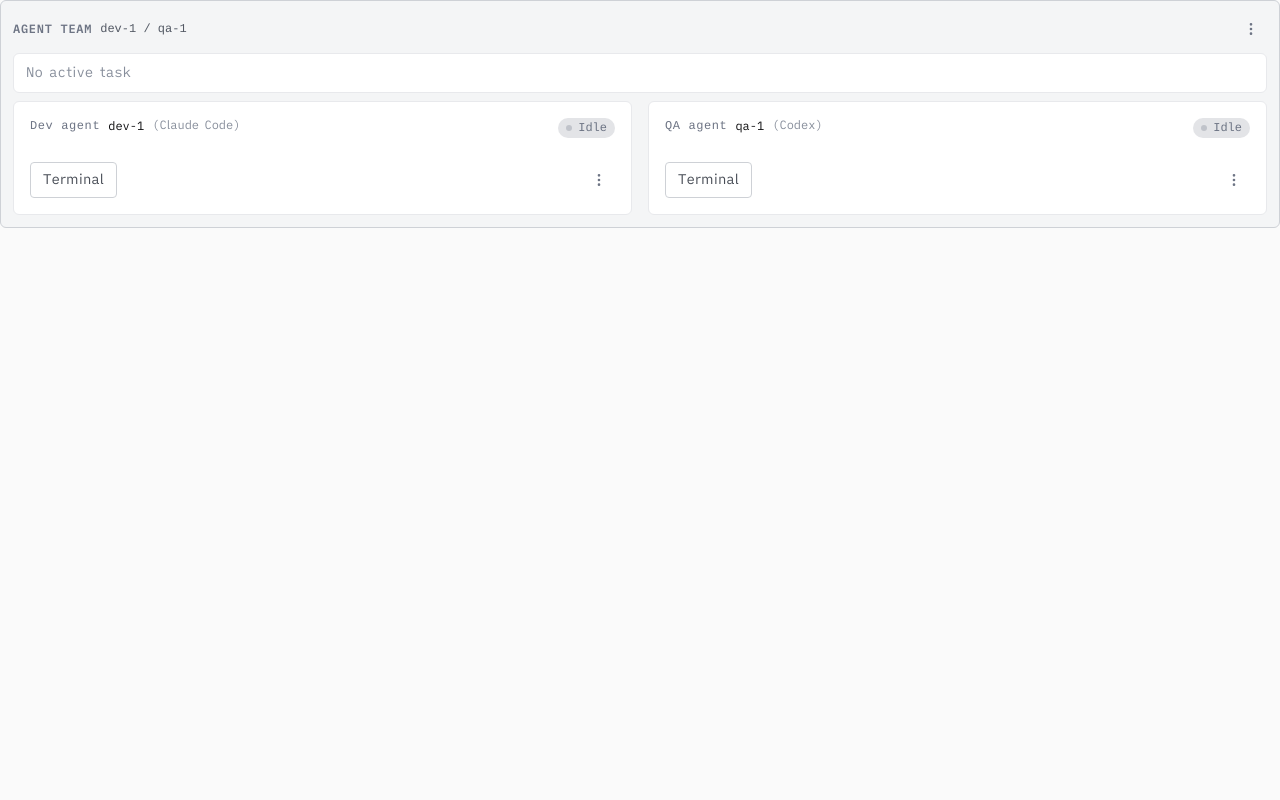
it: AgentTeam actions menu › keeps the team on screen and shows the reason when the delete fails
Click the button named "Agent Team dev-1 / qa-1 actions menu": click(1251, 29) [1235,13,1267,45]
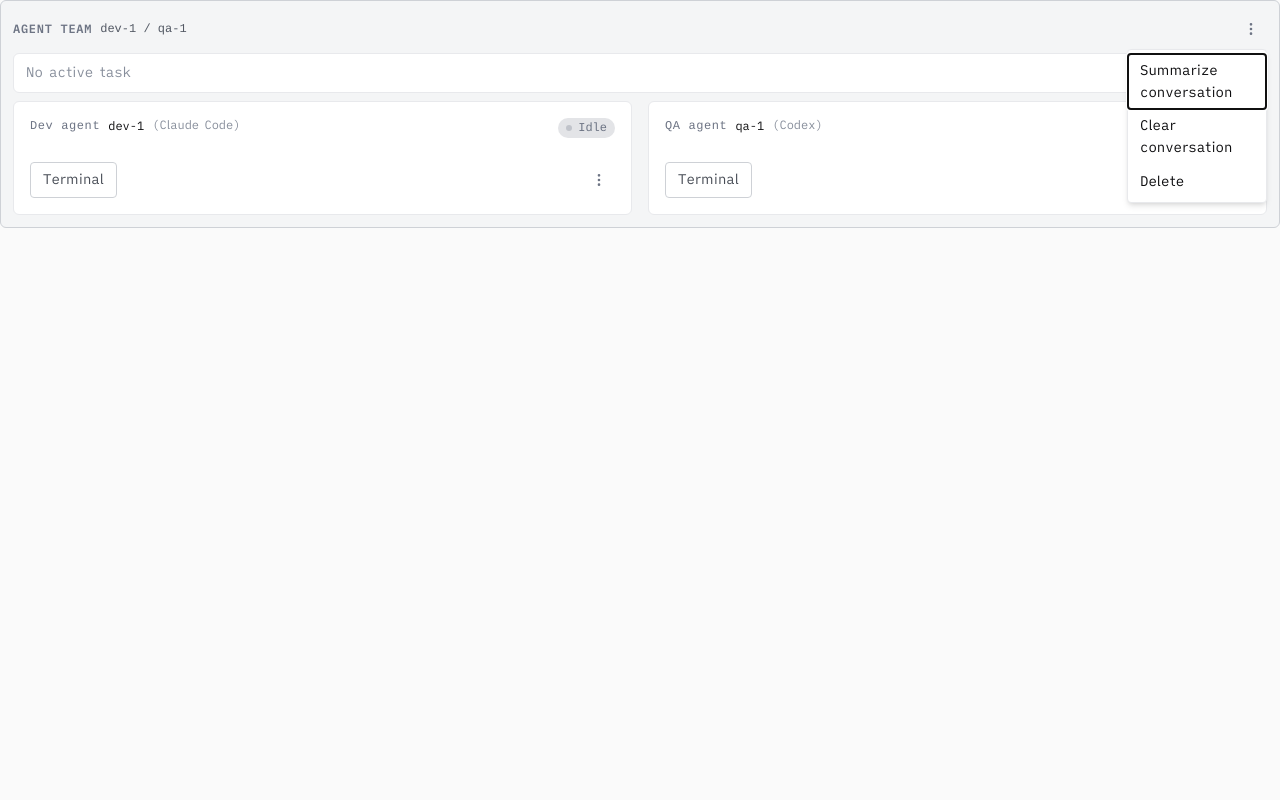
Click the menu item "Delete": click(1197, 182) [1128,165,1266,198]
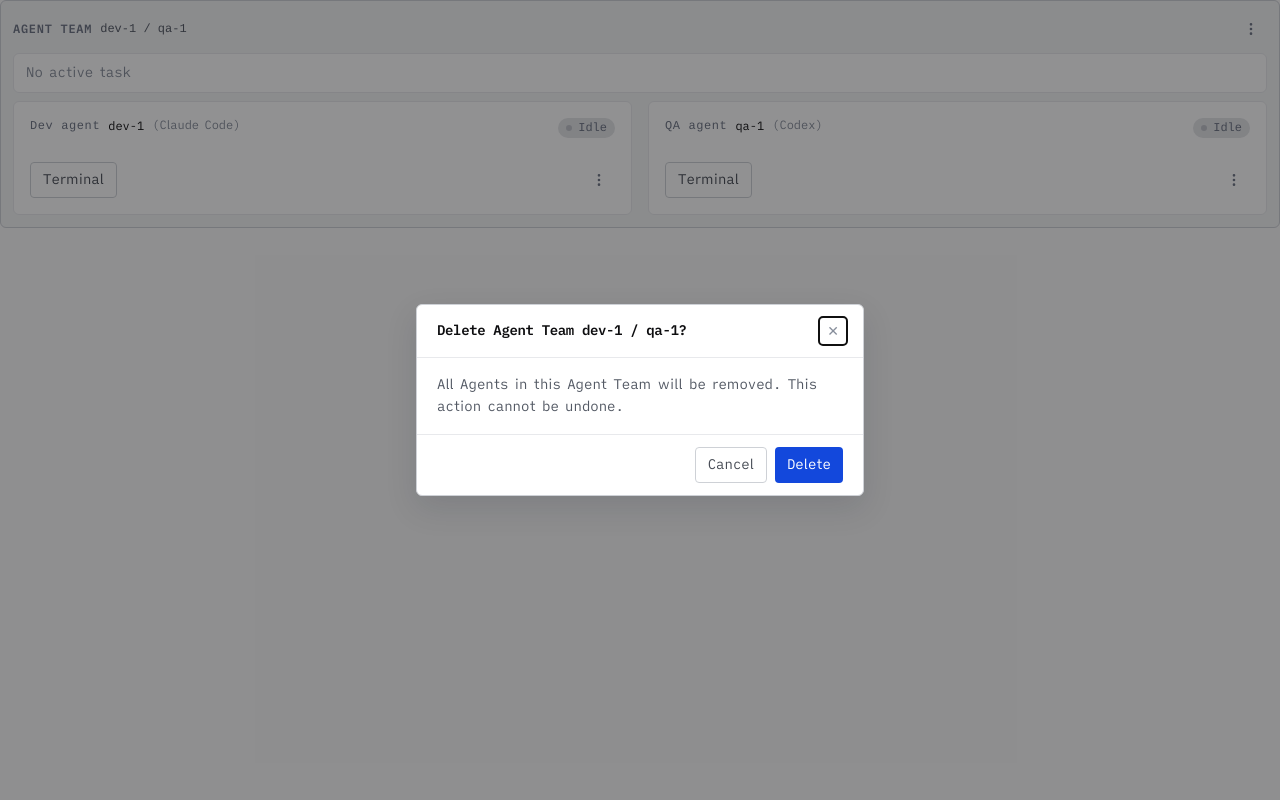
Click the button "Delete": click(809, 465) [775,447,843,482]
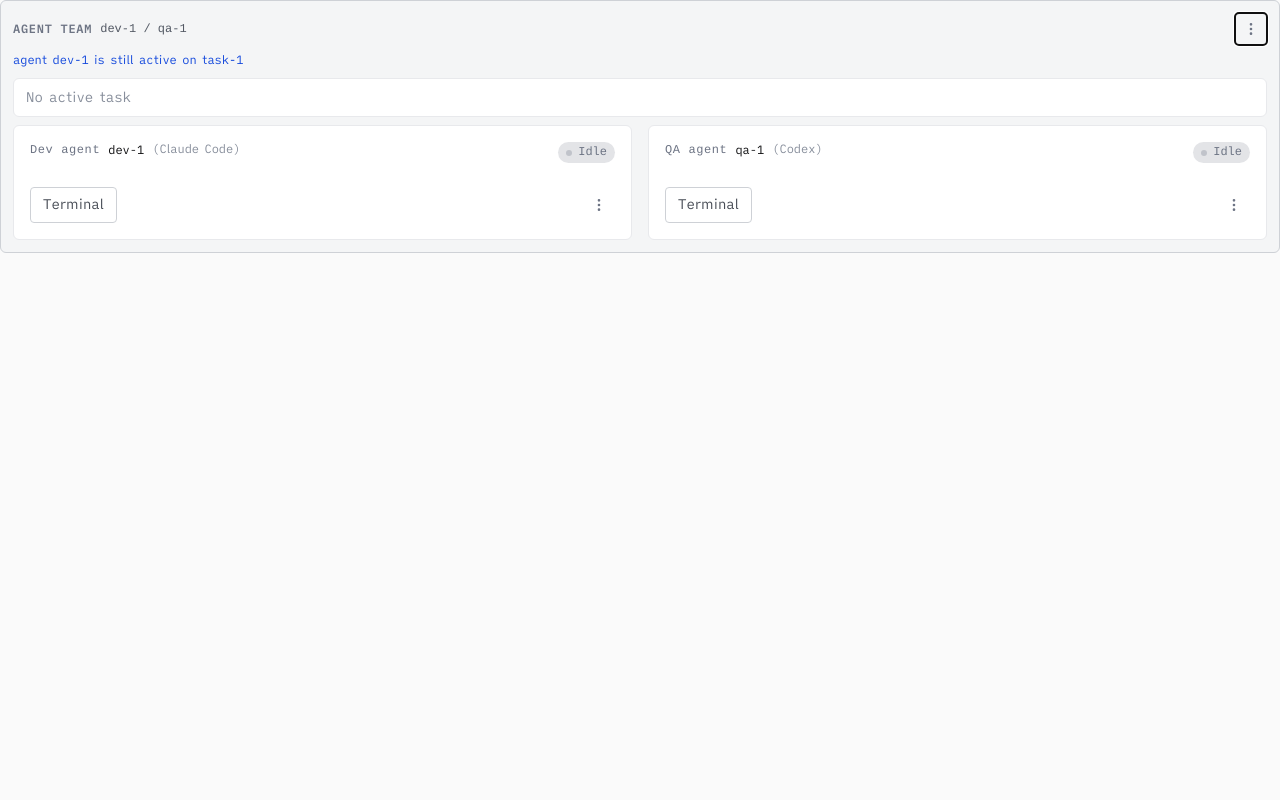
Expected: the text "agent dev-1 is still active on task-1" is shown, [13,53,243,68]
